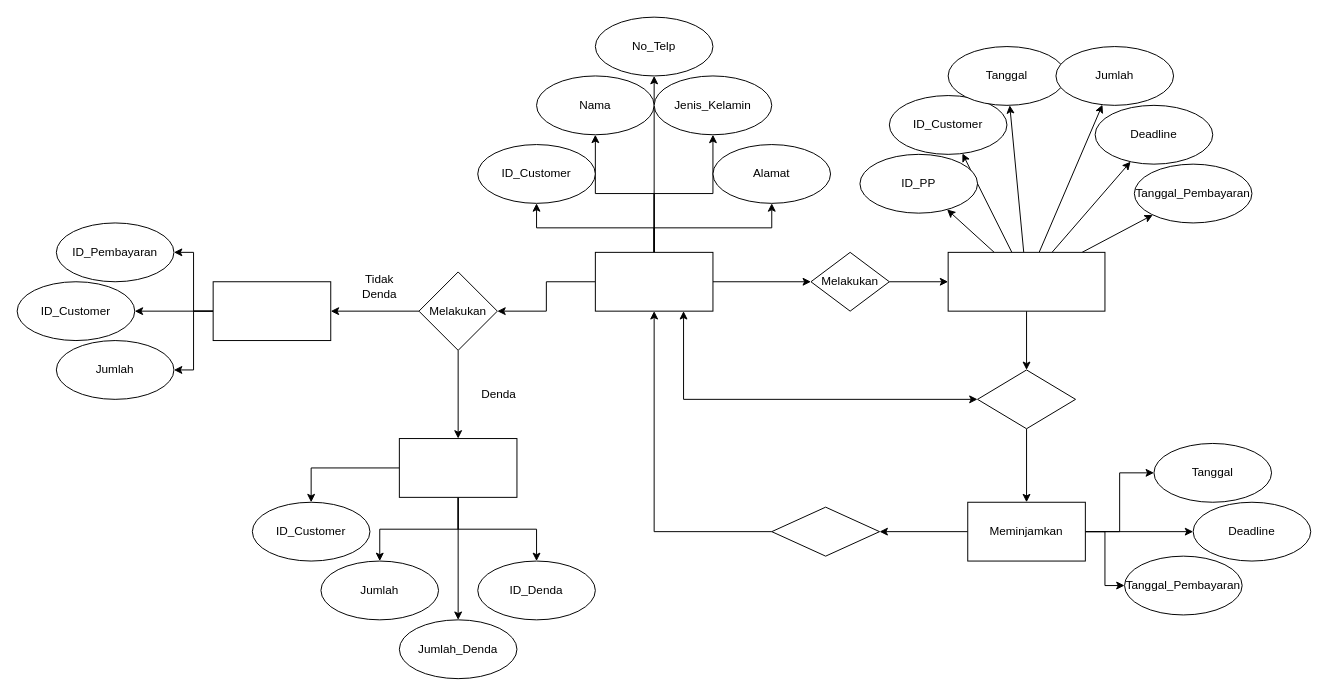
Image size: 1328x696. Some labels were removed from this diagram. Each missing label, with the centre of its shape:
Customer: the point at 653,281
Menghubungi: the point at 825,531
Pembayaran: the point at 271,311
Pembayaran_Denda: the point at 457,467
Permintaan_Peminjaman: the point at 1026,281
Verifikasi Data: the point at 1026,399
